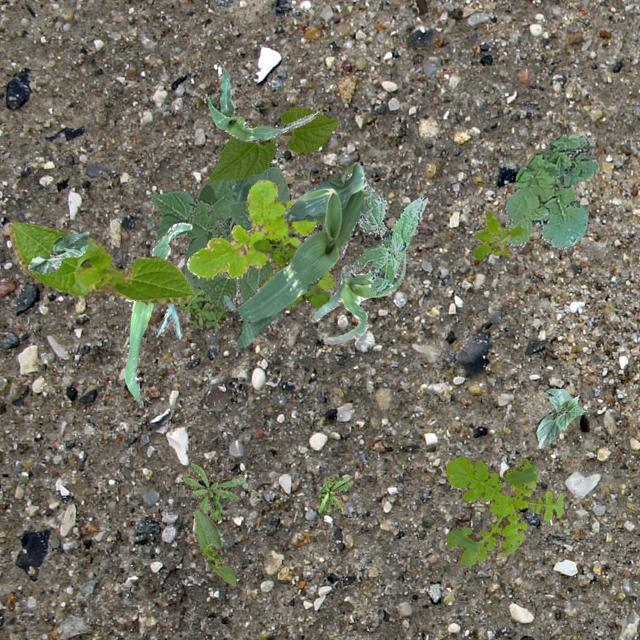crop: (222, 162, 366, 348), (150, 162, 290, 312), (7, 220, 195, 304), (122, 222, 192, 400), (208, 106, 338, 180), (310, 250, 408, 344), (205, 57, 312, 142), (534, 387, 586, 448), (193, 510, 234, 584), (27, 230, 88, 272)
weed: (186, 178, 334, 288), (444, 456, 564, 564), (500, 133, 598, 250), (349, 180, 426, 294), (252, 238, 328, 308), (182, 456, 244, 518), (472, 210, 524, 258), (176, 288, 224, 330), (318, 474, 352, 512)
